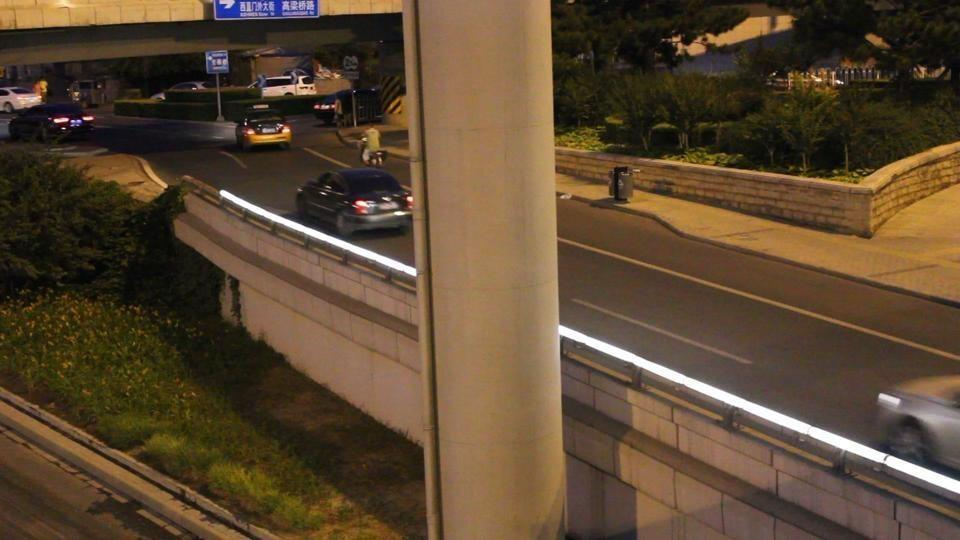car: (875, 372, 960, 471), (294, 167, 414, 237), (6, 101, 96, 140), (237, 114, 292, 152), (252, 73, 309, 97), (0, 85, 44, 114)
